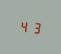four: (19, 19, 29, 33)
three: (30, 20, 40, 34)
